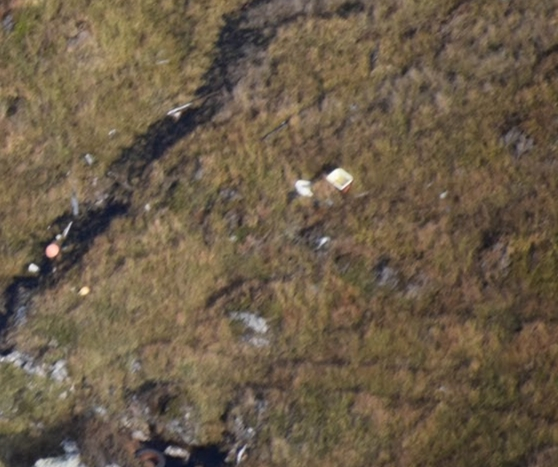scattered_barrel: (16, 142, 118, 302), (274, 154, 364, 258)
